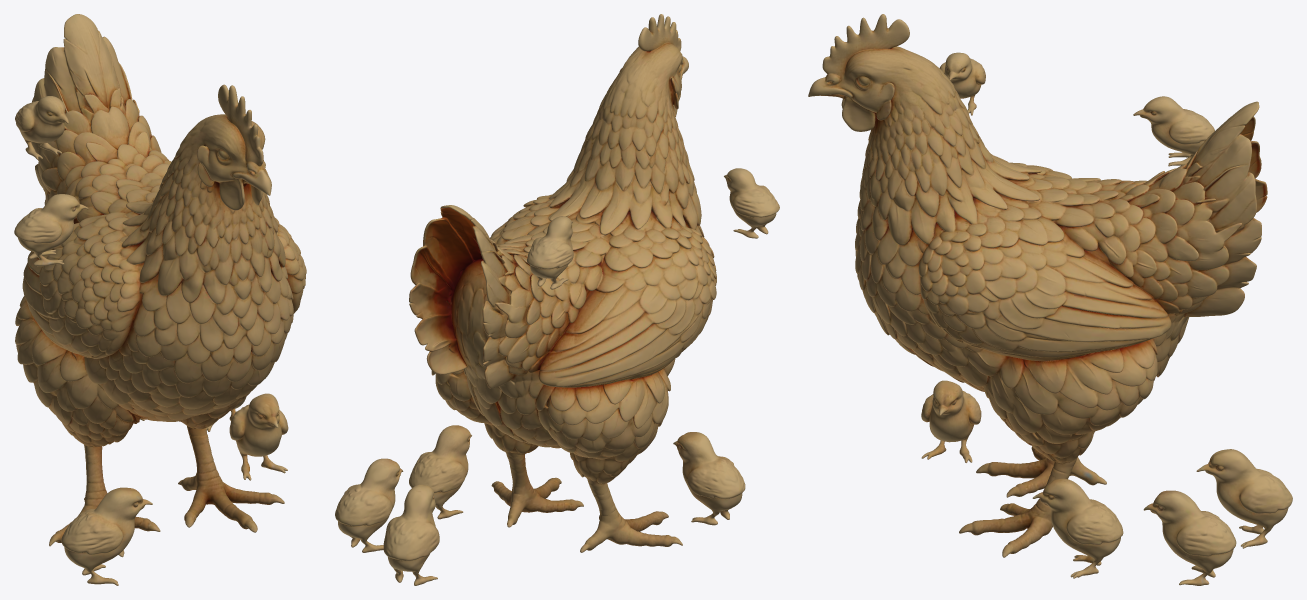
Rendered from 66-la-gallina-y-los-pollos-de-oro-optimized.glb.
The picture shows the model from 3 angles, left to right: view 1: azimuth 30°, elevation 25°; view 2: azimuth 150°, elevation 25°; view 3: azimuth 270°, elevation 25°; orthographic projection. The views are drawn at different scales.
Visible parts, largest first — view 1: tripo_node_590c452b-cacd-4cd5-bd9d-0831e0e52f53; view 2: tripo_node_590c452b-cacd-4cd5-bd9d-0831e0e52f53; view 3: tripo_node_590c452b-cacd-4cd5-bd9d-0831e0e52f53.
Part boxes in pixels (box(x1,y1,x2,y2)): tripo_node_590c452b-cacd-4cd5-bd9d-0831e0e52f53: box(14, 14, 306, 585); tripo_node_590c452b-cacd-4cd5-bd9d-0831e0e52f53: box(335, 14, 779, 585); tripo_node_590c452b-cacd-4cd5-bd9d-0831e0e52f53: box(808, 14, 1292, 585).
Size of the model in its own units: 0.744 by 1 by 0.8924.
Materials: 1 (1 with a texture image).
